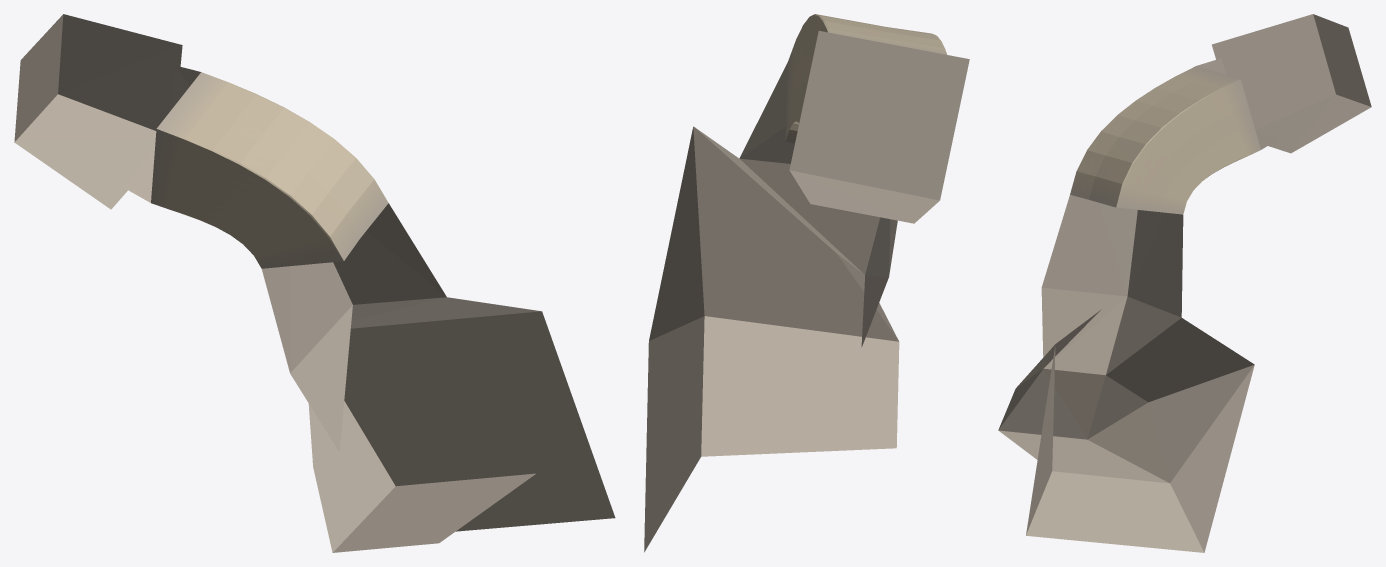
File: combat-arm-13-1.glb
3 renders of one model, left to right at view 1: azimuth 30°, elevation 25°; view 2: azimuth 150°, elevation 25°; view 3: azimuth 270°, elevation 25°, orthographic. The views are drawn at different scales.
Parts seen in each view (by area): view 1: world; view 2: world; view 3: world.
Boxes of the visible parts, x1,y1,x2,y2 form: world: (14,14,615,552); world: (644,14,969,552); world: (998,14,1371,552).
Size of the model in its own units: 300 by 354 by 282.
